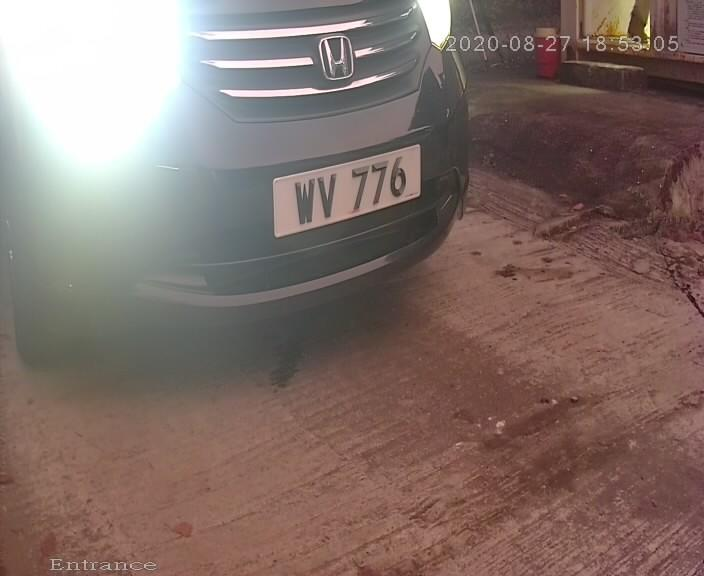License Plate: (258, 121, 431, 250)
